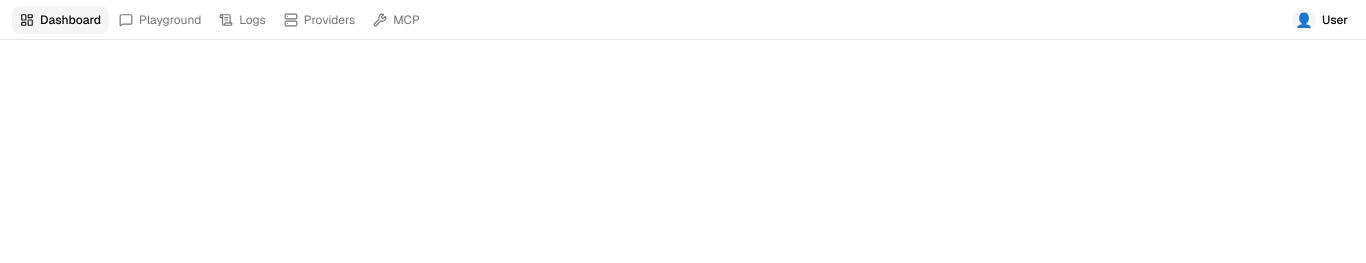
Test: Topbar — user menu › shows an Admin badge and the Users item for an admin
The width and height of the screenshot is (1366, 263).
Click the button "👤 User" at (1320, 20), box [1286, 6, 1354, 34]
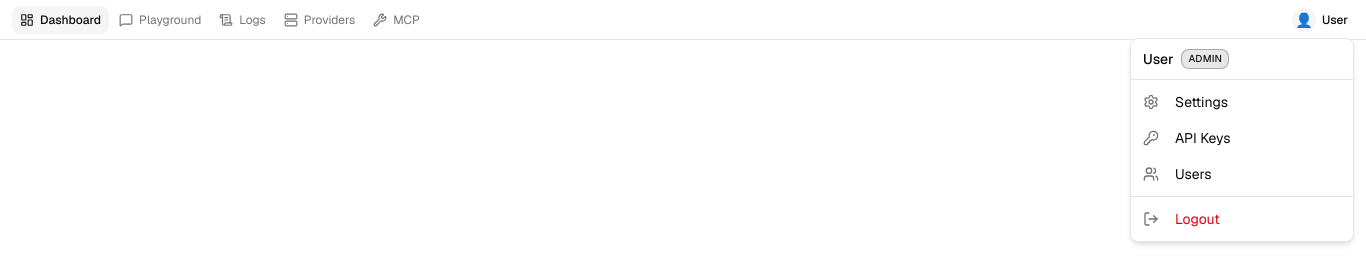
Check: the text "Admin" is shown, box [1182, 49, 1229, 69]
Check: the menu item "Users" is shown, box [1143, 165, 1212, 183]
